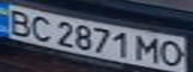1: (109, 29, 133, 58)
2: (51, 18, 78, 48)
7: (90, 26, 112, 55)
8: (72, 22, 93, 52)
B: (0, 7, 36, 37)
C: (24, 14, 57, 43)
M: (136, 34, 163, 64)
O: (157, 38, 187, 69)
